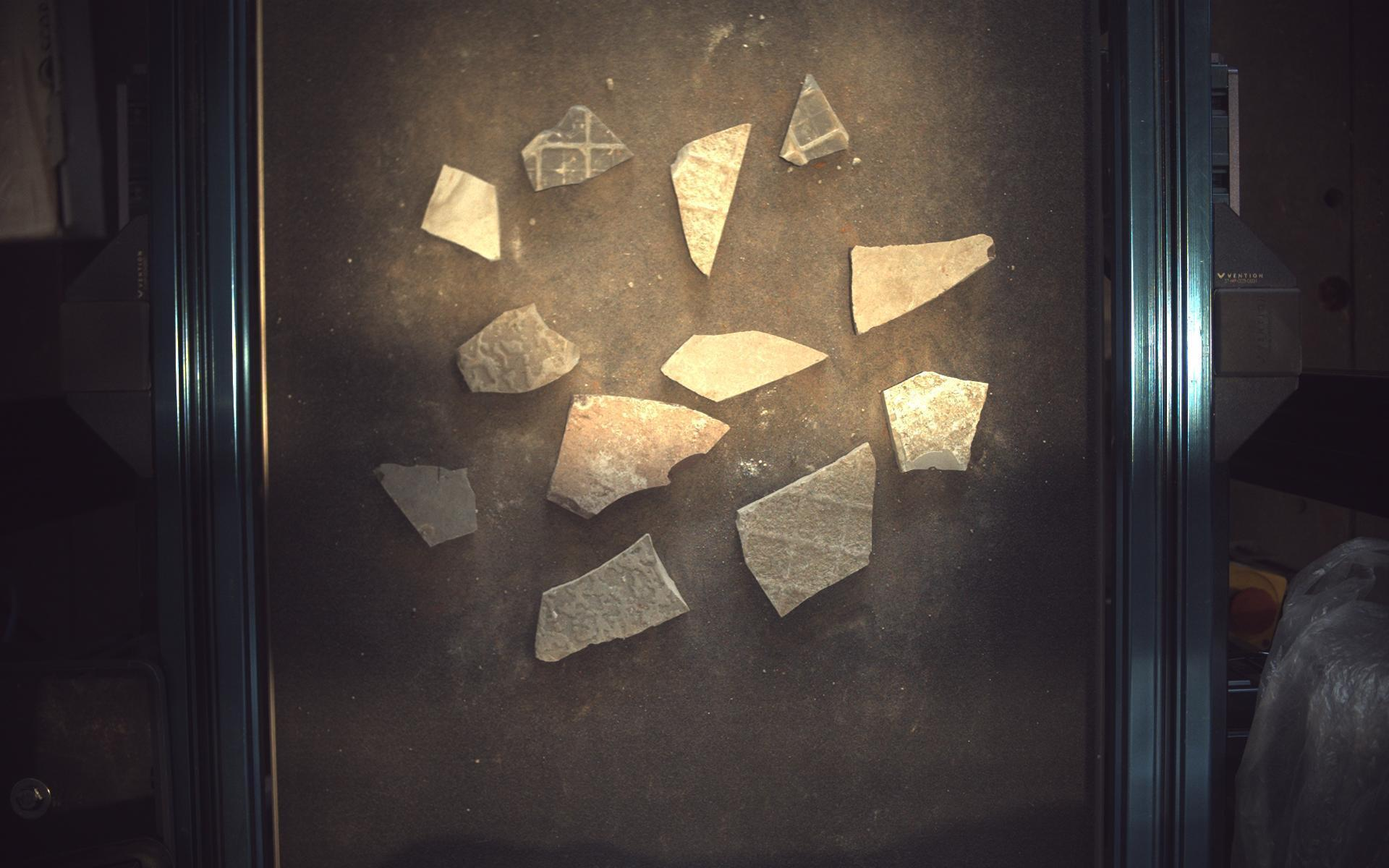tile: (738, 443, 878, 617), (548, 396, 730, 519), (536, 534, 690, 663), (853, 233, 998, 333), (672, 122, 753, 275), (663, 331, 829, 401), (458, 304, 580, 393), (885, 371, 990, 472), (522, 105, 634, 190), (373, 464, 477, 548), (421, 164, 501, 260), (781, 72, 851, 165)
